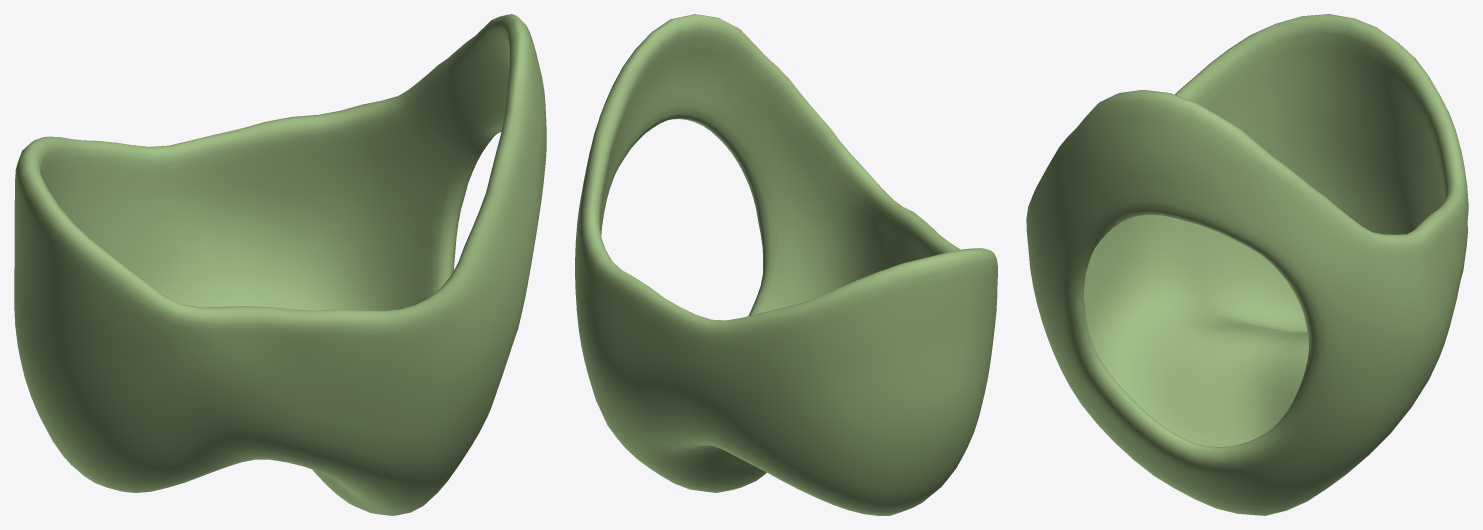
Rendered from TR4_Frame_Classic.001.glb.
3 renders of one model, left to right at view 1: azimuth 30°, elevation 25°; view 2: azimuth 150°, elevation 25°; view 3: azimuth 270°, elevation 25°, orthographic. The views are drawn at different scales.
Visible parts, largest first — view 1: TR4_Frame_Classic.001; view 2: TR4_Frame_Classic.001; view 3: TR4_Frame_Classic.001.
Part boxes in pixels (x1,y1,x2,y2): TR4_Frame_Classic.001: (14,14,546,515); TR4_Frame_Classic.001: (575,14,997,515); TR4_Frame_Classic.001: (1026,14,1468,515).
Size of the model in its own units: 0.8852 by 0.9067 by 0.7881.
